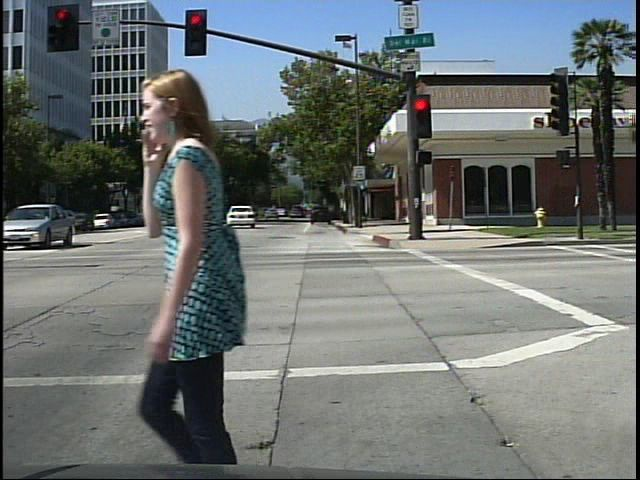person: (125, 63, 311, 466)
